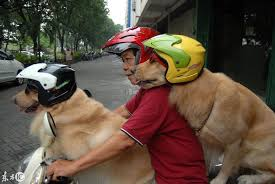helmet: (148, 35, 208, 83), (111, 27, 165, 59), (30, 63, 79, 98)
